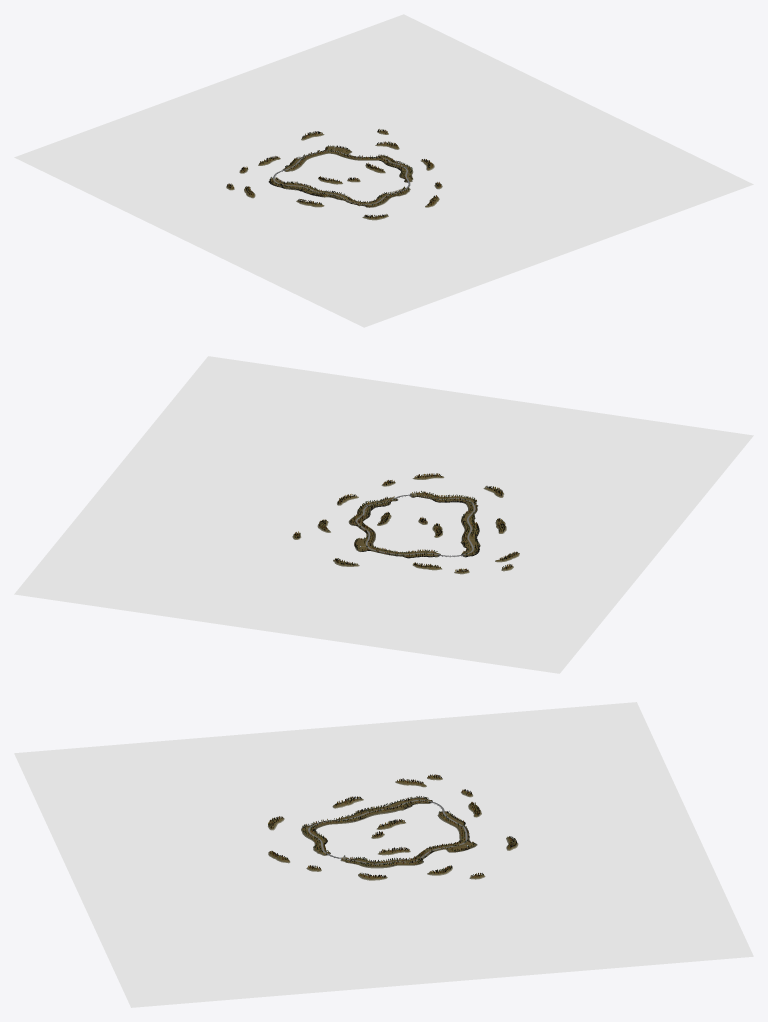
File: finland_stage8_visual.glb
3 renders of one model, top to bottom at view 1: azimuth 30°, elevation 25°; view 2: azimuth 150°, elevation 25°; view 3: azimuth 270°, elevation 25°, orthographic. The views are drawn at different scales.
Parts seen in each view (by area): view 1: Props_And_Markers, Track_Road_And_Terrain, Foliage_And_Vegetation; view 2: Props_And_Markers, Track_Road_And_Terrain, Foliage_And_Vegetation; view 3: Props_And_Markers, Track_Road_And_Terrain, Foliage_And_Vegetation.
Part boxes in pixels (x1,y1,x2,y2): Props_And_Markers: (14,14,753,327); Track_Road_And_Terrain: (228,130,439,218); Foliage_And_Vegetation: (227,129,441,218); Props_And_Markers: (14,356,753,673); Track_Road_And_Terrain: (294,475,517,572); Foliage_And_Vegetation: (293,473,517,572); Props_And_Markers: (14,702,753,1007); Track_Road_And_Terrain: (270,776,515,878); Foliage_And_Vegetation: (268,774,516,877).
Size of the model in its own units: 4187 by 51.34 by 4281.
43 materials, 43 textured.
